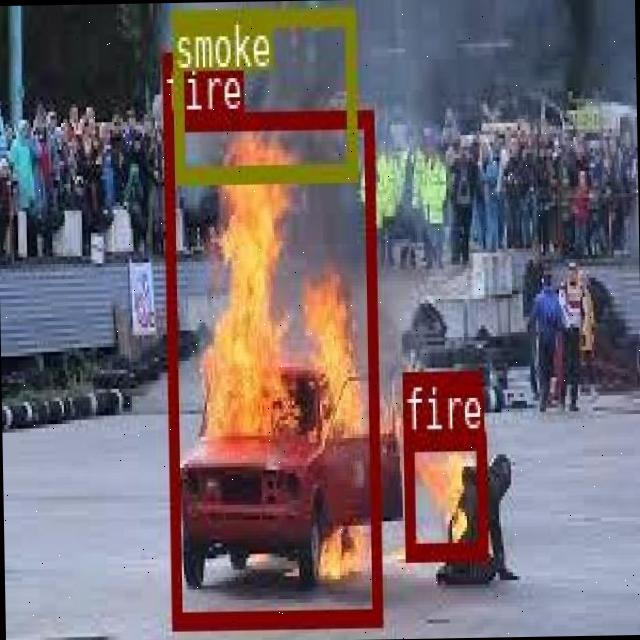fire: (162, 106, 380, 626), (402, 429, 485, 558)
smoke: (170, 4, 354, 180)
